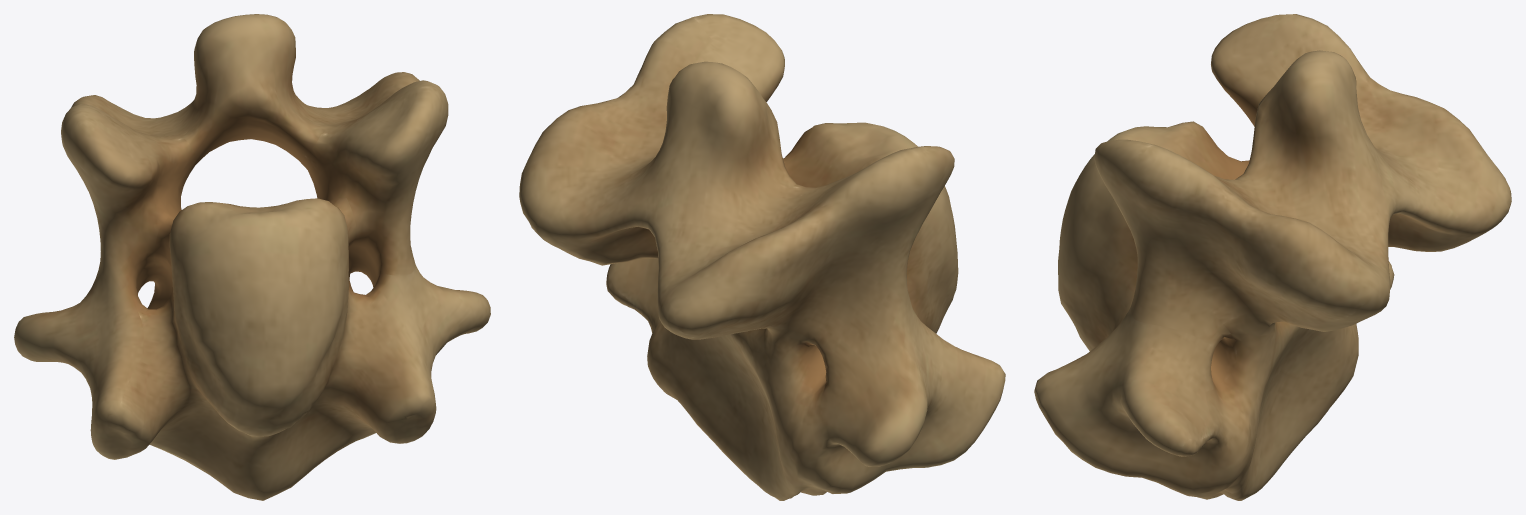
3 views of the same model, side by side, from view 1: azimuth 30°, elevation 25°; view 2: azimuth 150°, elevation 25°; view 3: azimuth 270°, elevation 25° (orthographic). The views are drawn at different scales.
Visible parts, largest first — view 1: Group17985; view 2: Group17985; view 3: Group17985.
Boxes of the visible parts, x1,y1,x2,y2 form: Group17985: [14, 14, 490, 500]; Group17985: [519, 14, 1005, 500]; Group17985: [1034, 14, 1511, 500].
Bounding box in the file's own units: 60.27 × 64.81 × 61.47.
Materials: 1 (1 with a texture image).
